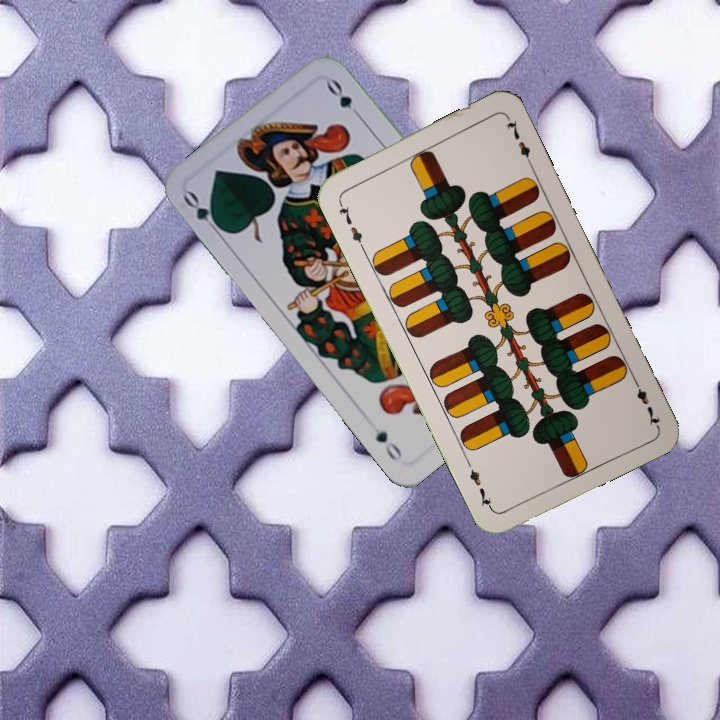E7: (629, 374, 663, 429), (334, 195, 367, 251)
GO: (179, 187, 227, 239)
